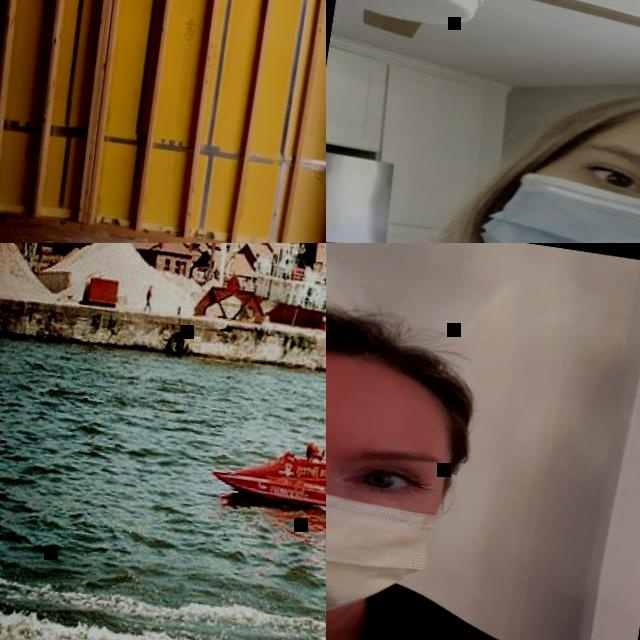Hardhat: (304, 441, 321, 457)
Mask: (326, 436, 456, 636)
NO-Hardhat: (326, 284, 490, 434)
NO-Safety Vest: (142, 284, 156, 314), (146, 290, 152, 301)
Person: (326, 267, 640, 640), (326, 42, 640, 243), (304, 442, 322, 464)
